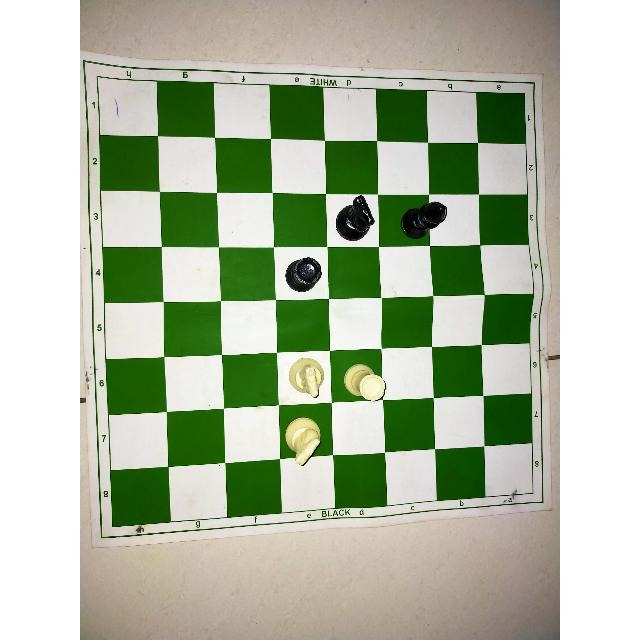black-bishop: (396, 198, 451, 242)
black-knight: (337, 190, 375, 243)
black-rook: (285, 258, 327, 296)
white-knight: (285, 416, 323, 467), (287, 357, 324, 397)
white-rook: (342, 361, 388, 402)
